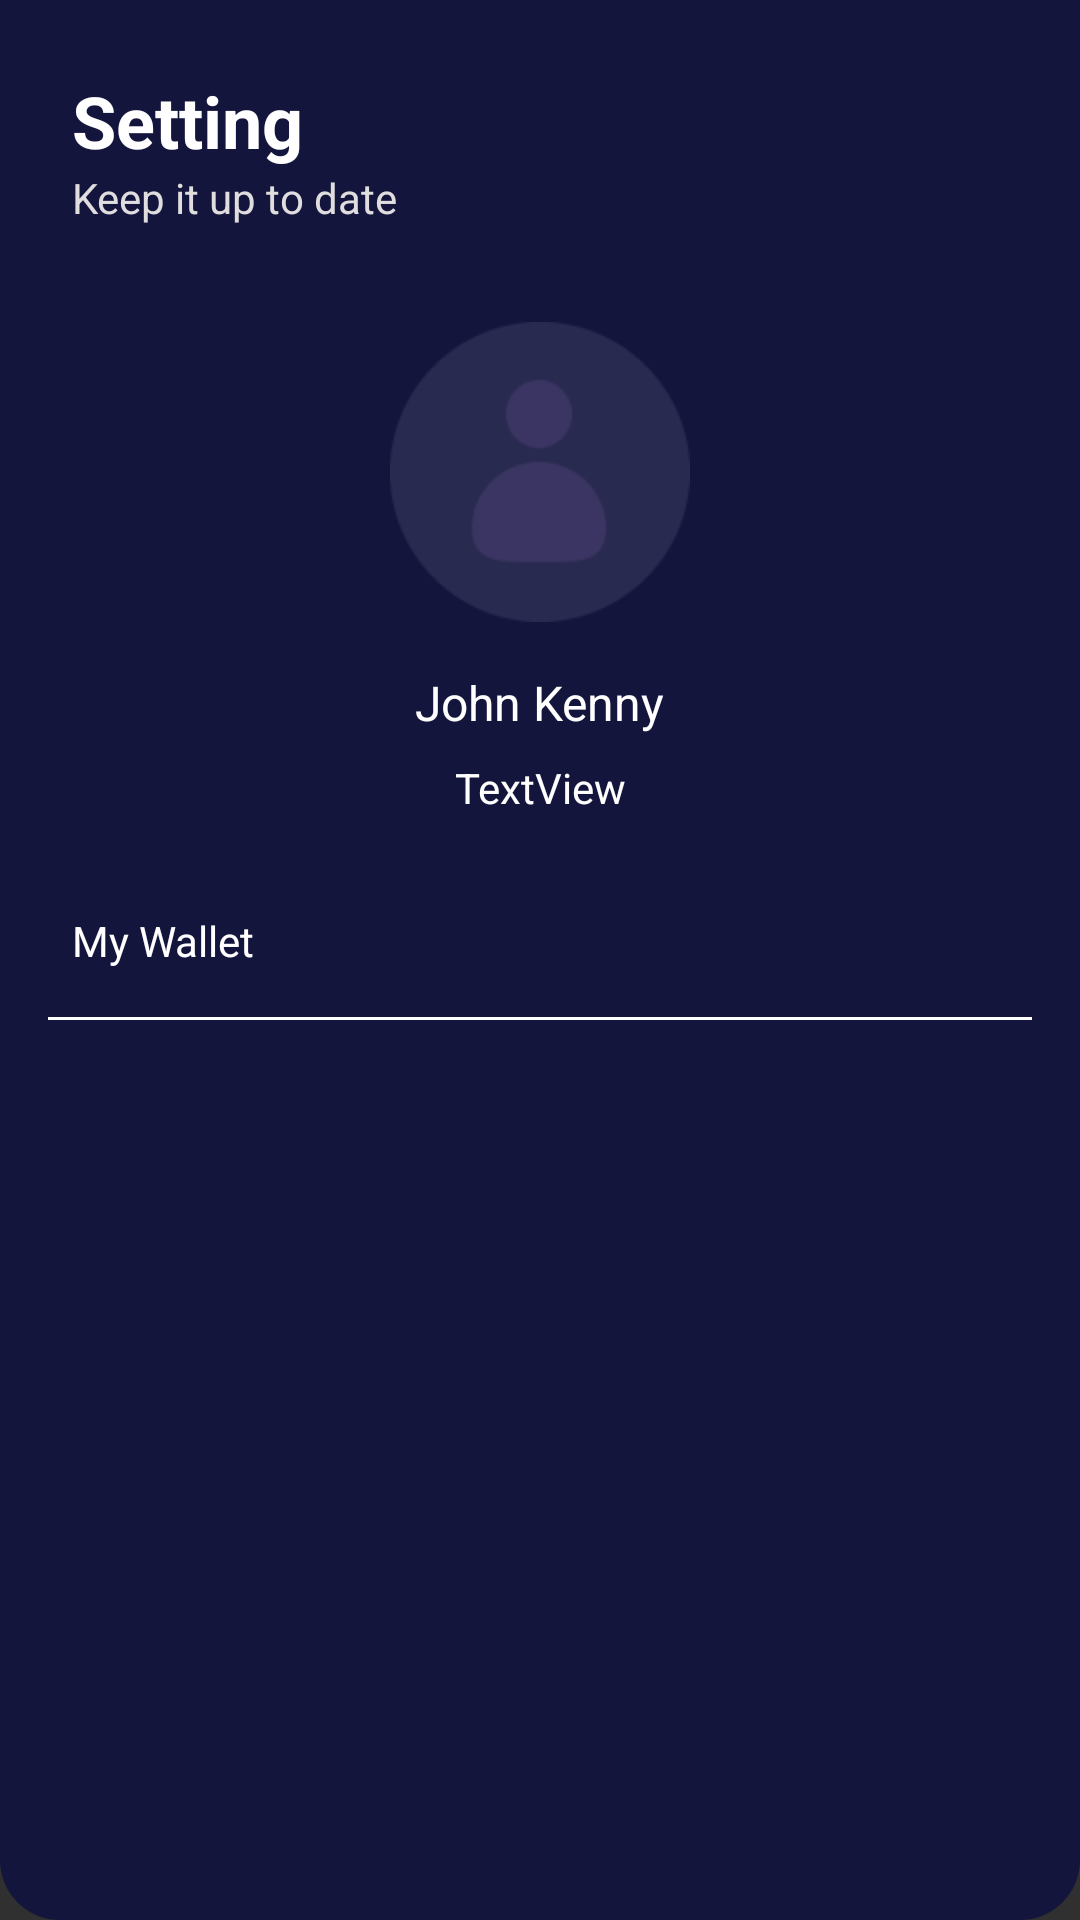

Icons on this 1080 × 1920 Android screen, each with the point to tap as [x,y]:
user: [539,471]
